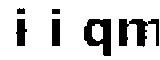i: (6, 6, 35, 50), (44, 6, 70, 49)
mm: (118, 14, 160, 53)
q: (79, 15, 114, 60)
